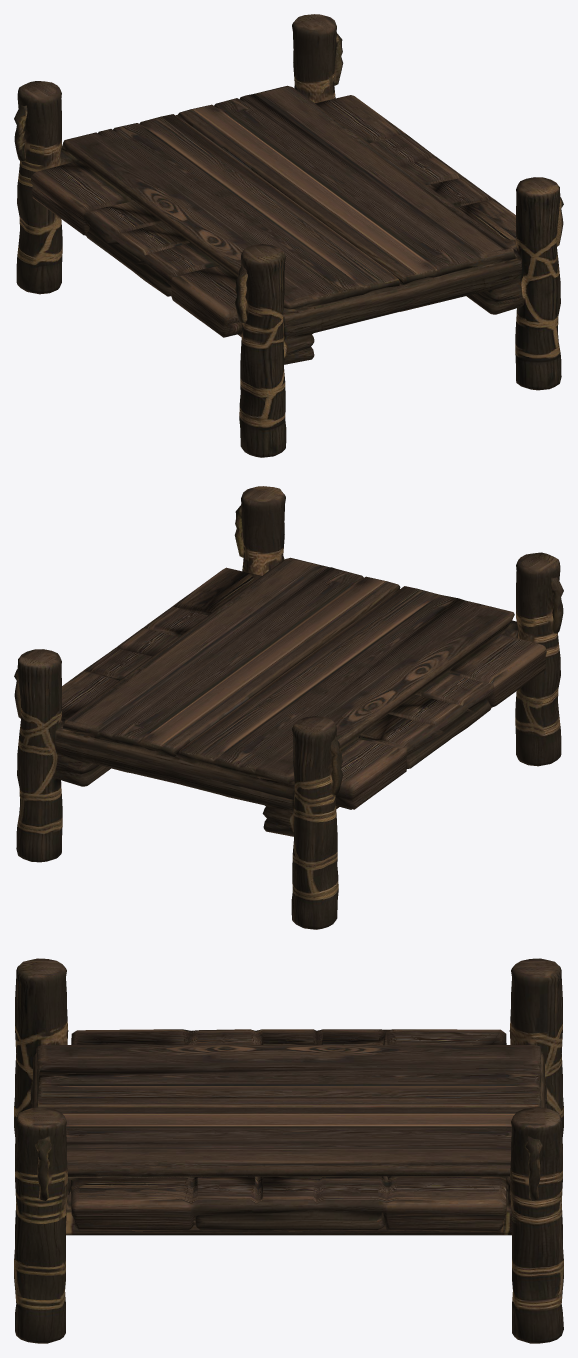
The model's file is dock.glb.
The picture shows the model from 3 angles, top to bottom: view 1: azimuth 30°, elevation 25°; view 2: azimuth 150°, elevation 25°; view 3: azimuth 270°, elevation 25°; orthographic projection. The views are drawn at different scales.
Parts seen in each view (by area): view 1: dock_mesh; view 2: dock_mesh; view 3: dock_mesh.
Boxes of the visible parts, bbox=[...] form: dock_mesh: bbox=[14, 14, 563, 457]; dock_mesh: bbox=[14, 486, 563, 929]; dock_mesh: bbox=[14, 958, 563, 1343].
Size of the model in its own units: 1.48 by 0.8336 by 1.91.
1 material, 1 textured.
